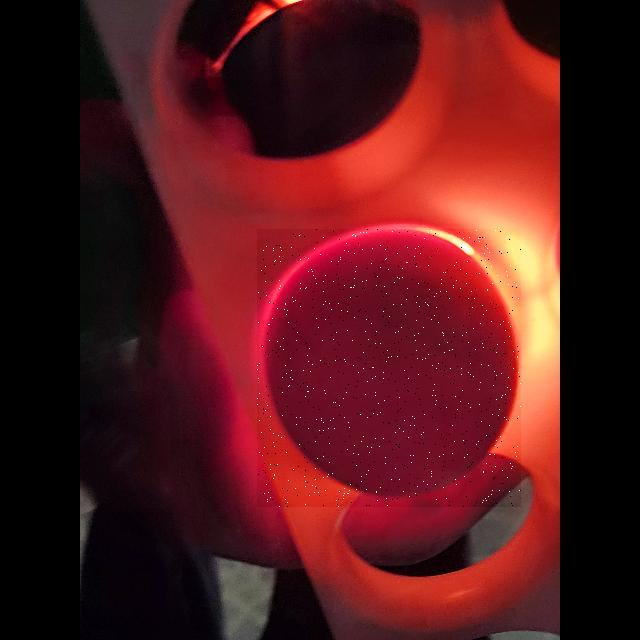Fertile: (257, 229, 521, 507)
